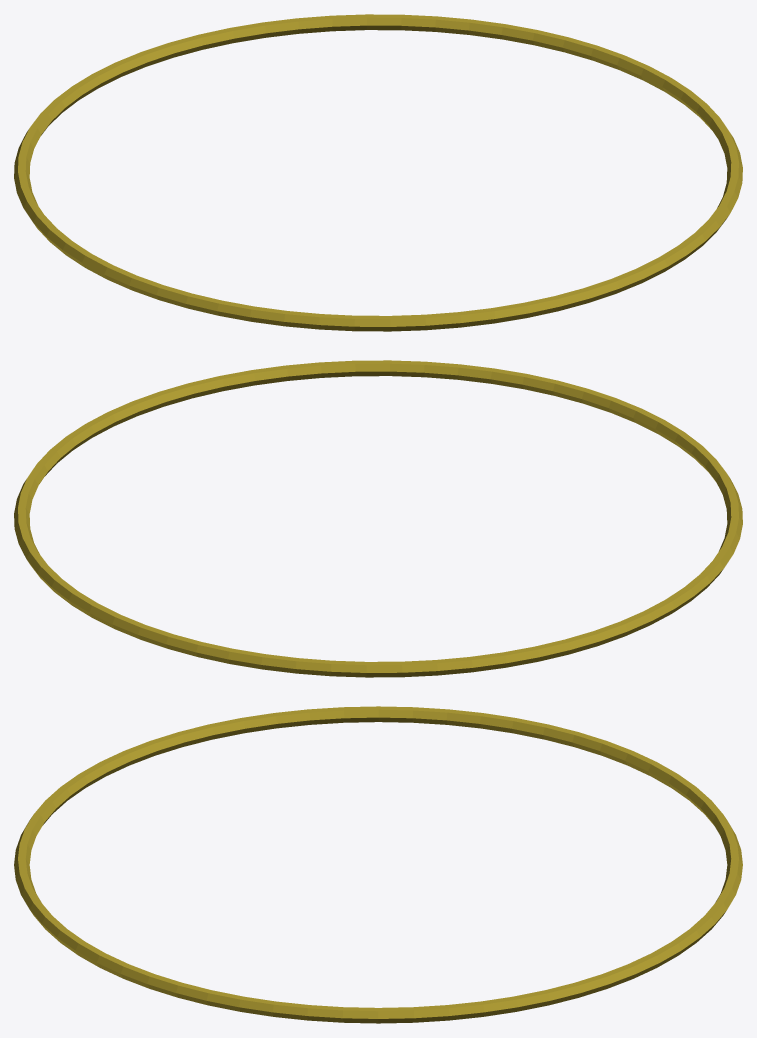
Rendered from range.obj.
3 views of the same model, one above another, from view 1: azimuth 30°, elevation 25°; view 2: azimuth 150°, elevation 25°; view 3: azimuth 270°, elevation 25° (orthographic).
Visible parts, largest first — view 1: Torus; view 2: Torus; view 3: Torus.
Boxes of the visible parts, x1,y1,x2,y2 form: Torus: [14, 14, 742, 331]; Torus: [14, 360, 742, 677]; Torus: [14, 706, 742, 1023].
Bounding box in the file's own units: 2.04 × 0.0381 × 2.04.
